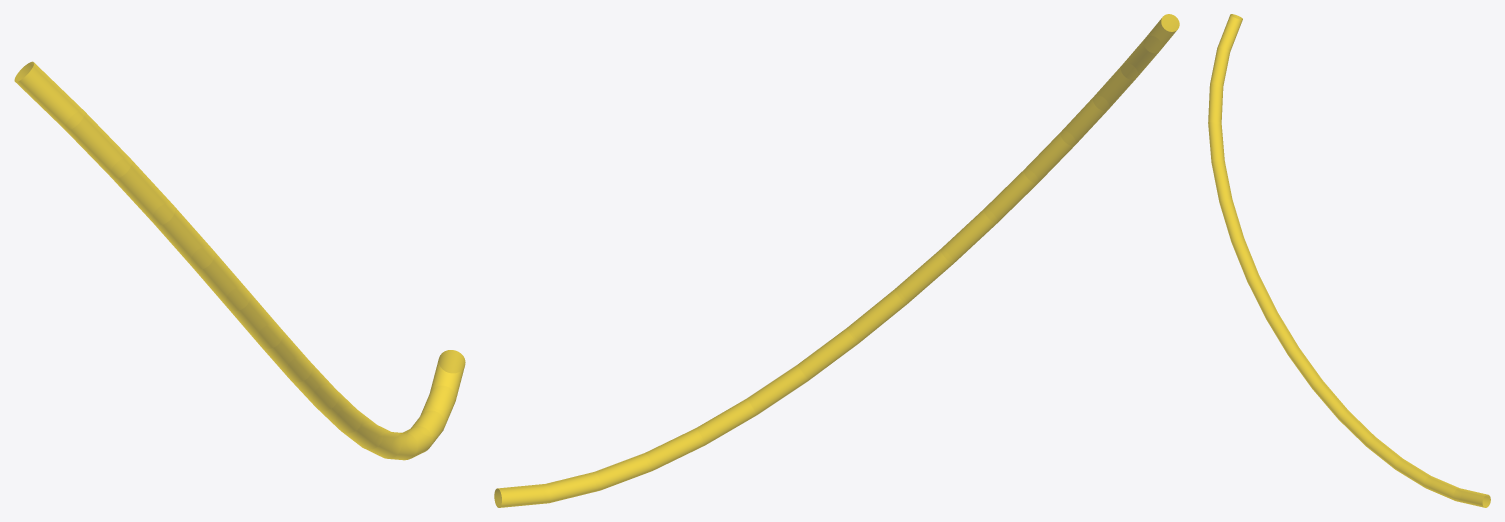
Rendered from Event_17758602_track_91.fbx.
3 views of the same model, side by side, from view 1: azimuth 30°, elevation 25°; view 2: azimuth 150°, elevation 25°; view 3: azimuth 270°, elevation 25° (orthographic). The views are drawn at different scales.
Parts seen in each view (by area): view 1: Model; view 2: Model; view 3: Model.
Part boxes in pixels (left/top/right/bottom): Model: left=14, top=61, right=465, bottom=460; Model: left=494, top=14, right=1179, bottom=507; Model: left=1208, top=14, right=1490, bottom=507.
Size of the model in its own units: 1.18 by 1.08 by 0.8319.
